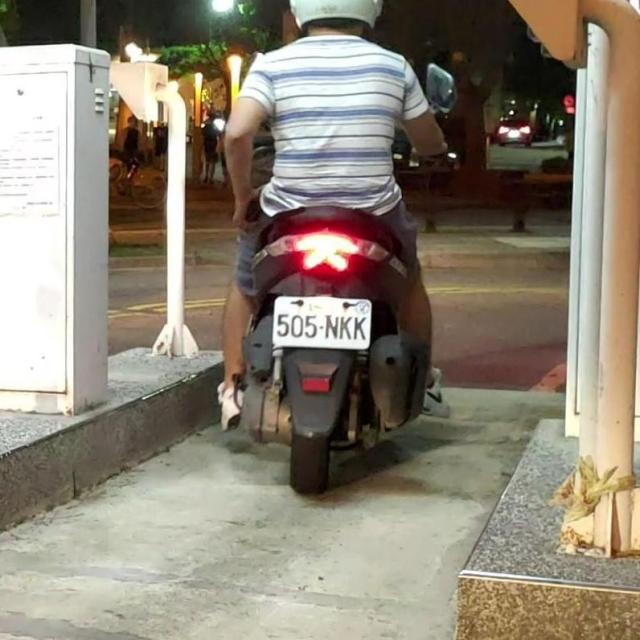W: (271, 289, 373, 353)
